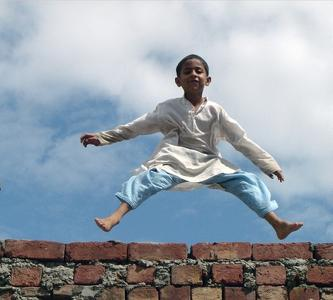person: (81, 56, 305, 239)
